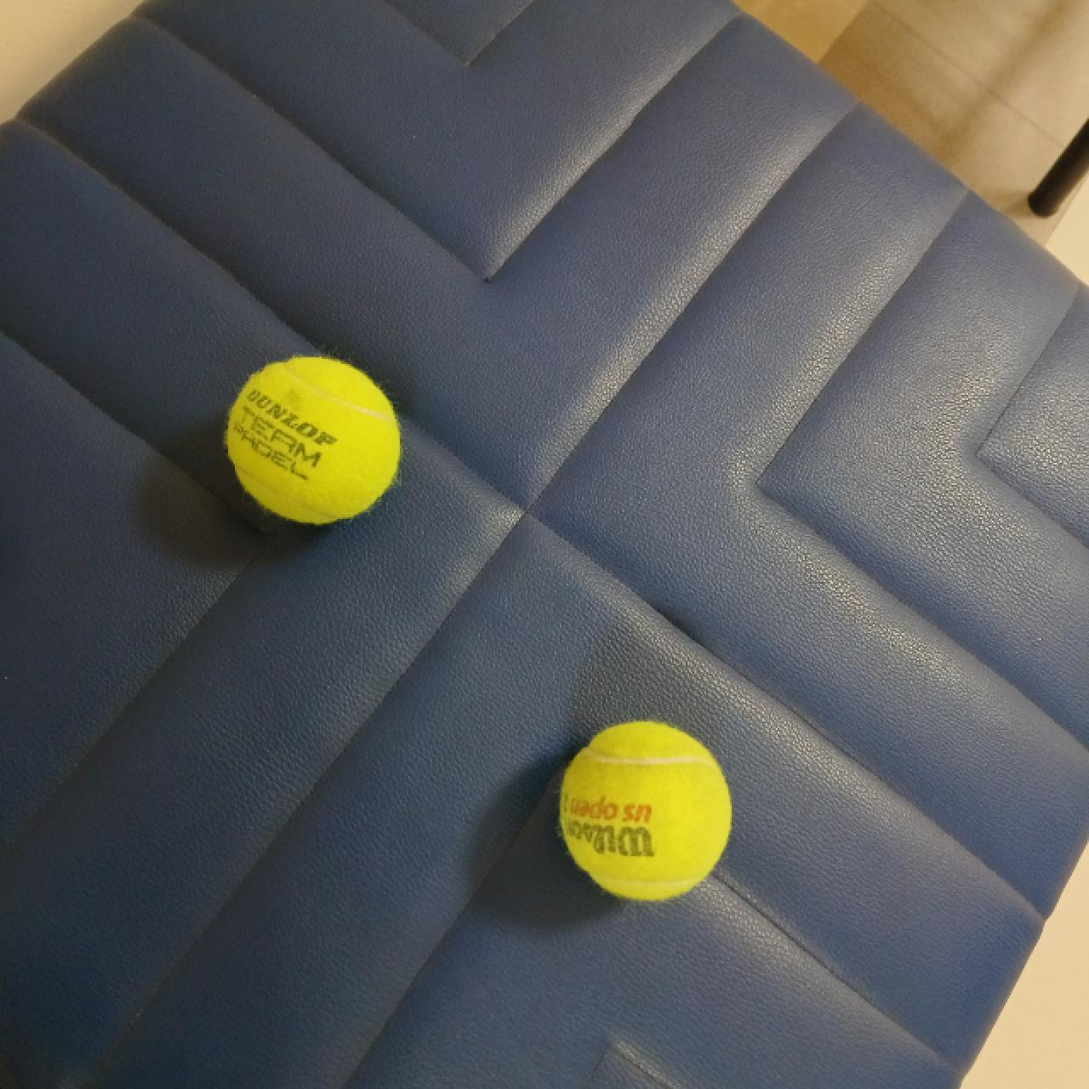tennis-ball: (555, 719, 732, 902), (224, 353, 407, 525)
